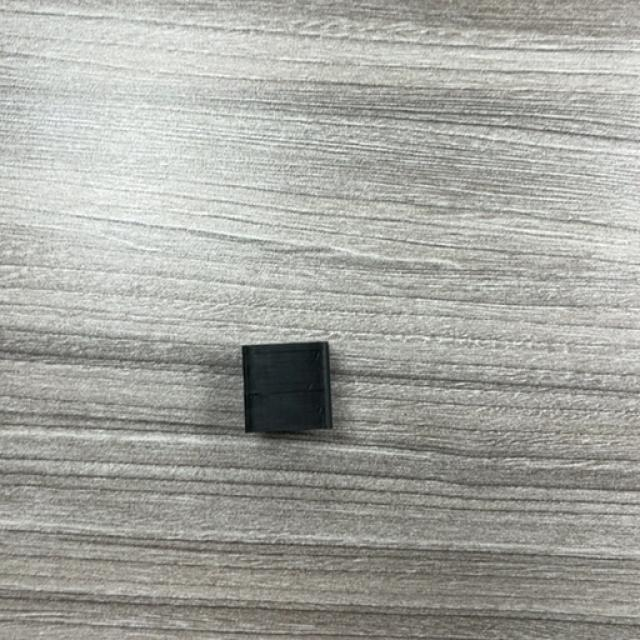Negro: (241, 341, 334, 436)
